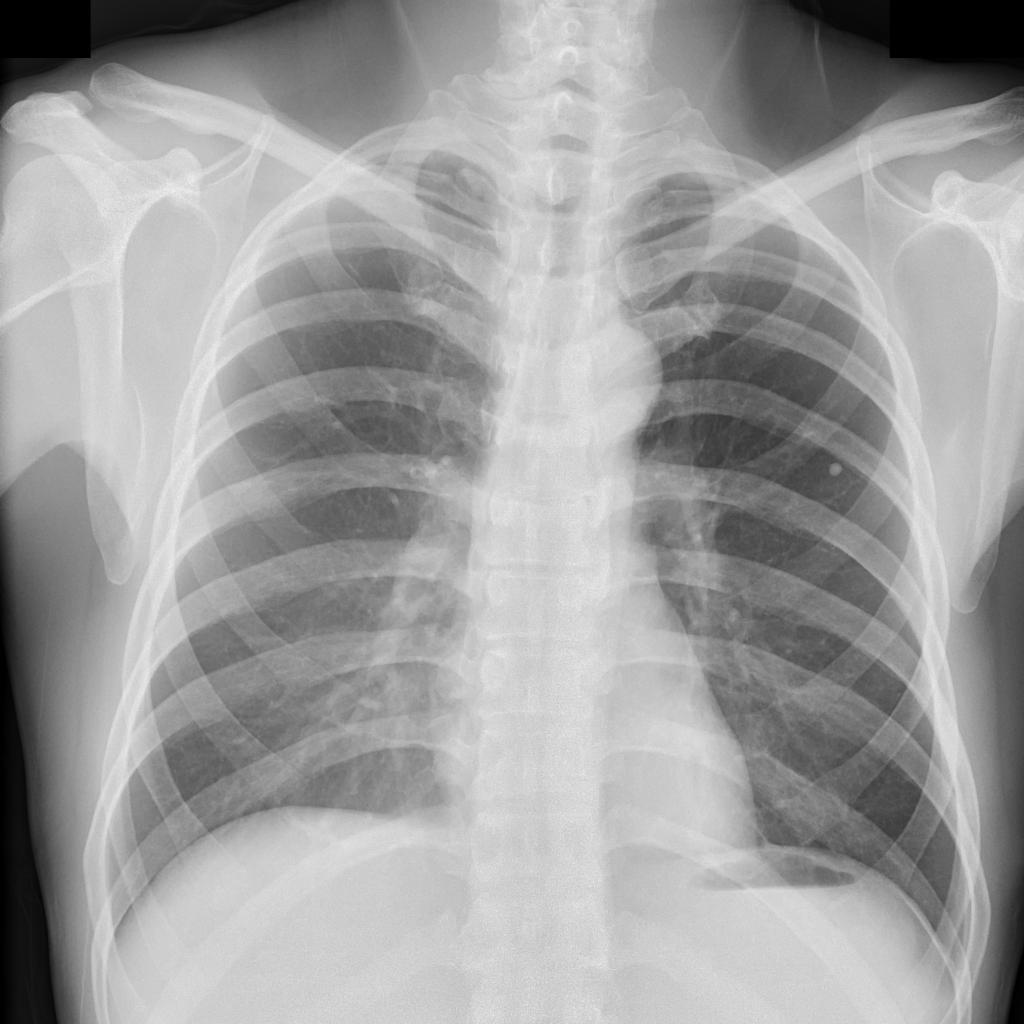Nodule: (826, 460, 845, 483)
